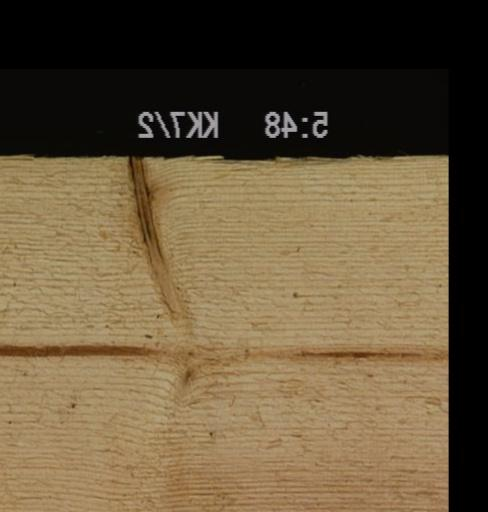dry_knot: (123, 154, 194, 336)
